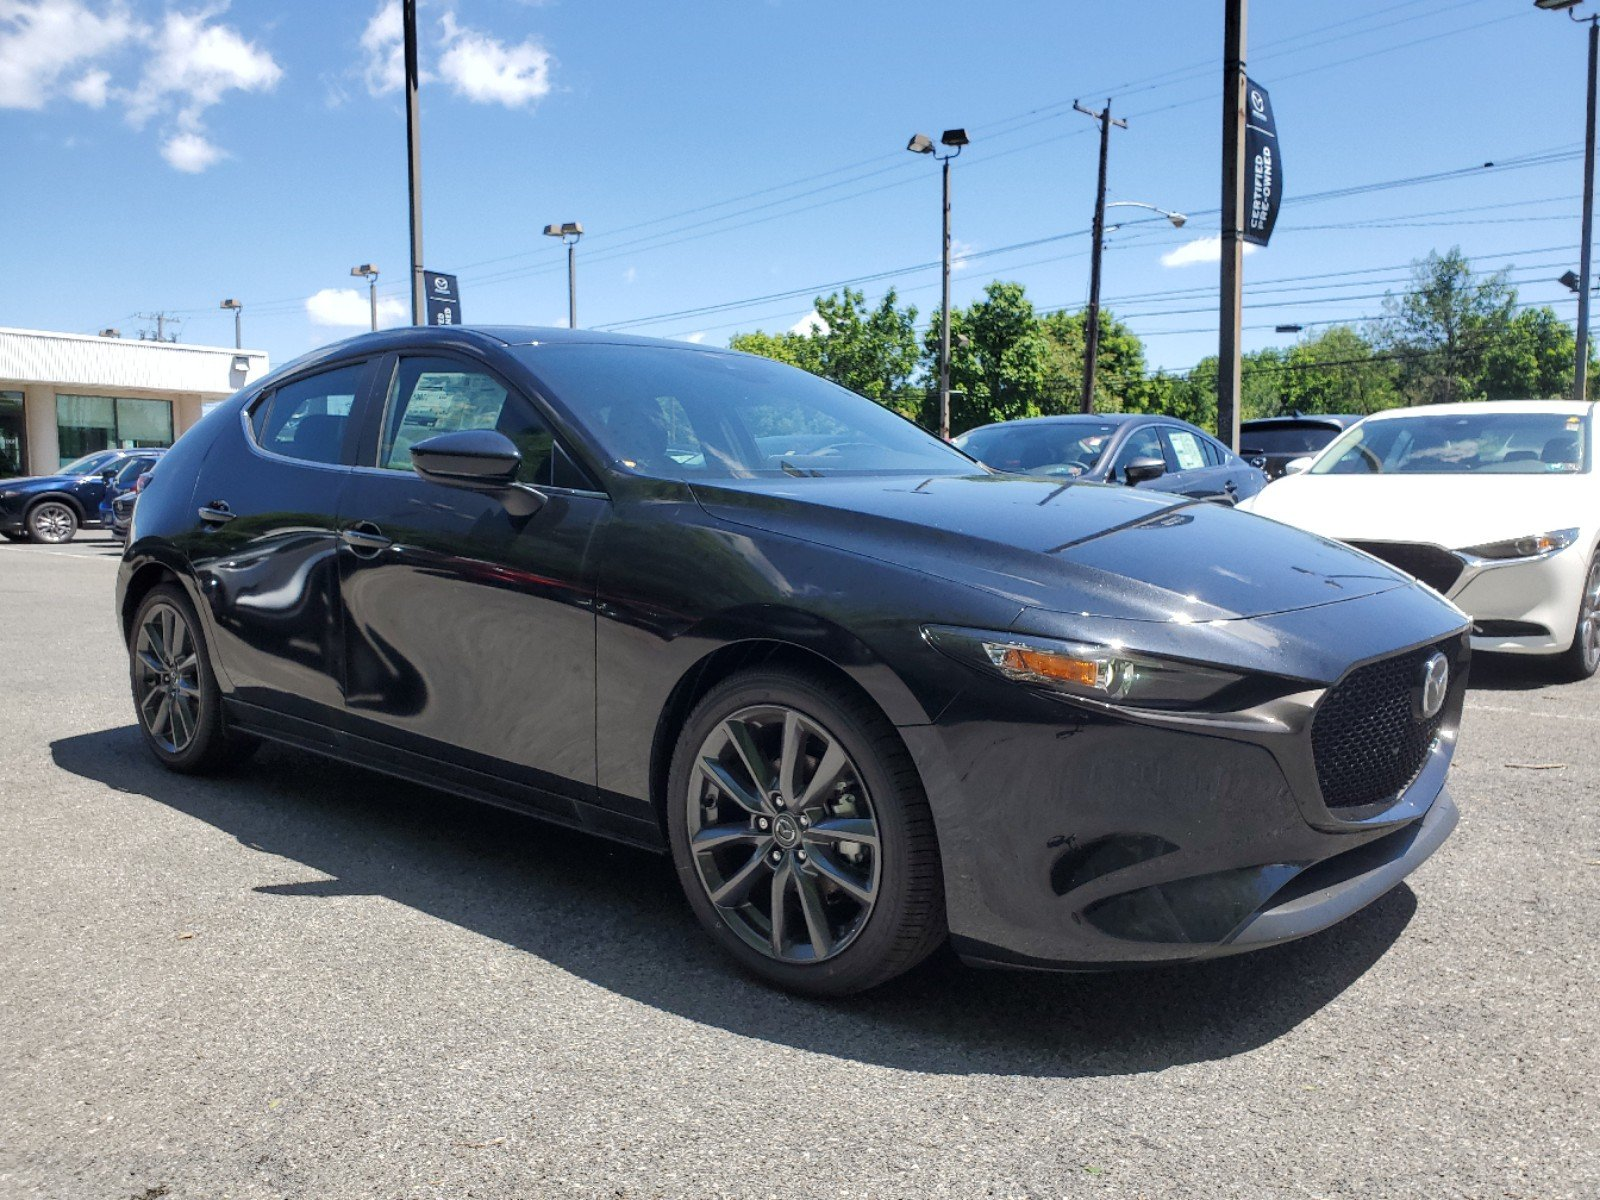Mazda3 Hatchback: (113, 323, 1474, 1005)
